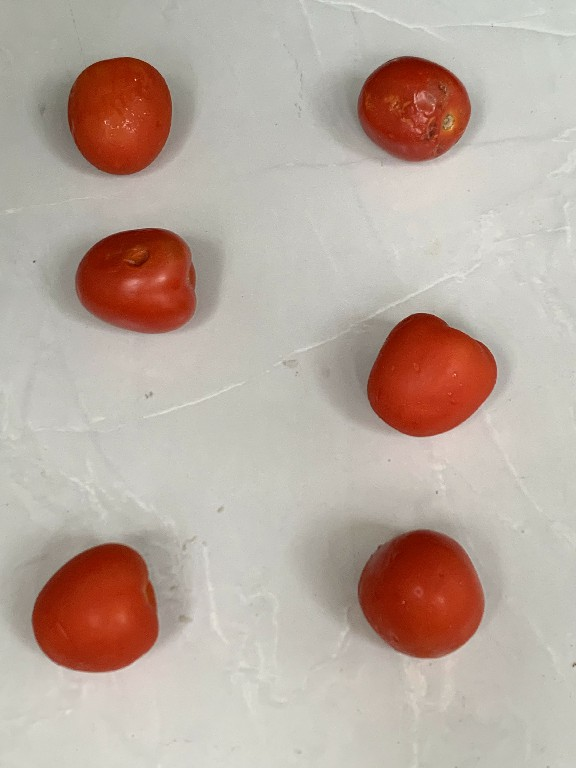NG: (70, 220, 204, 343), (355, 47, 475, 161)
OK: (356, 307, 504, 446), (346, 522, 486, 661), (26, 540, 168, 676), (60, 51, 179, 184)
